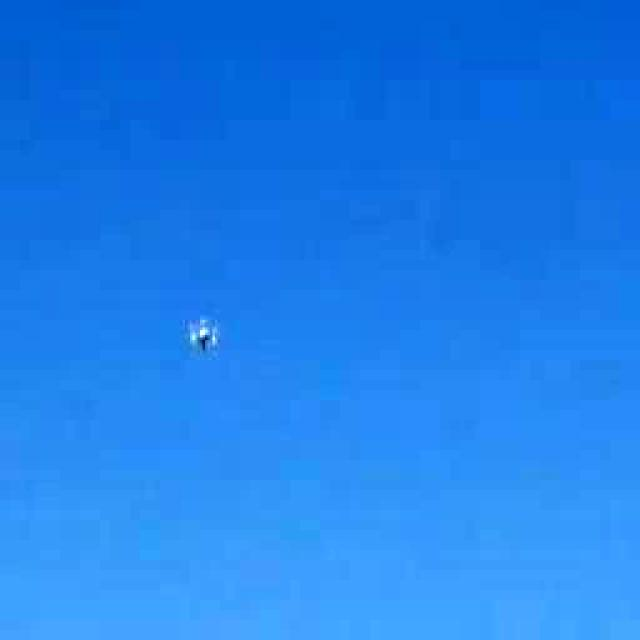bird: (154, 295, 249, 372)
